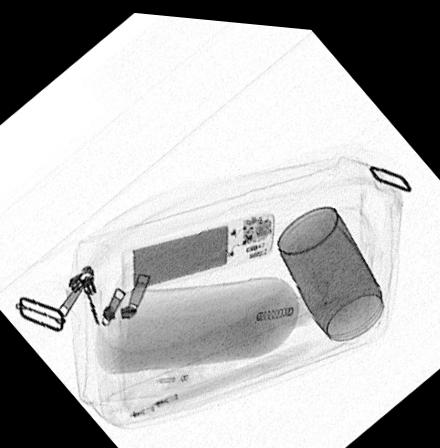Powerbank: (118, 202, 276, 290)
